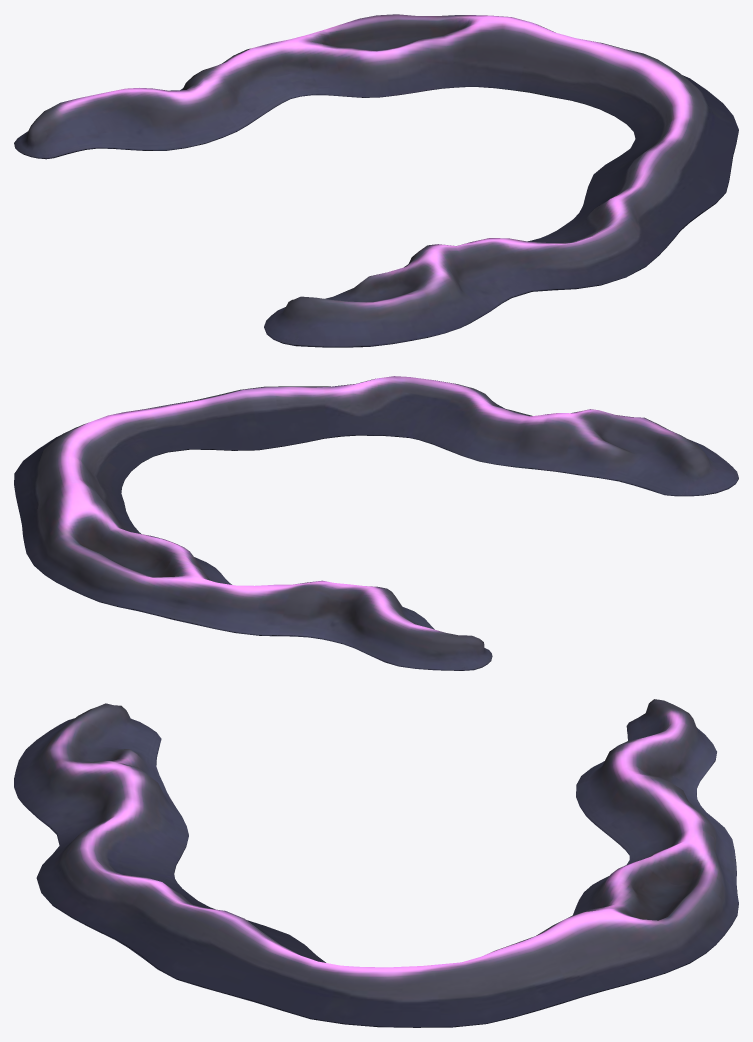
Rendered from caos_sts_chaosgrowth_02b_v35.glb.
3 renders of one model, top to bottom at view 1: azimuth 30°, elevation 25°; view 2: azimuth 150°, elevation 25°; view 3: azimuth 270°, elevation 25°, orthographic. The views are drawn at different scales.
Parts seen in each view (by area): view 1: caos_sts_chaosgrowth_02b; view 2: caos_sts_chaosgrowth_02b; view 3: caos_sts_chaosgrowth_02b.
Boxes of the visible parts, <box> form: caos_sts_chaosgrowth_02b: <box>14,14,738,347</box>; caos_sts_chaosgrowth_02b: <box>14,376,738,670</box>; caos_sts_chaosgrowth_02b: <box>14,699,738,1027</box>.
Bounding box in the file's own units: 15.52 × 1.12 × 15.22.
1 material, 1 textured.
